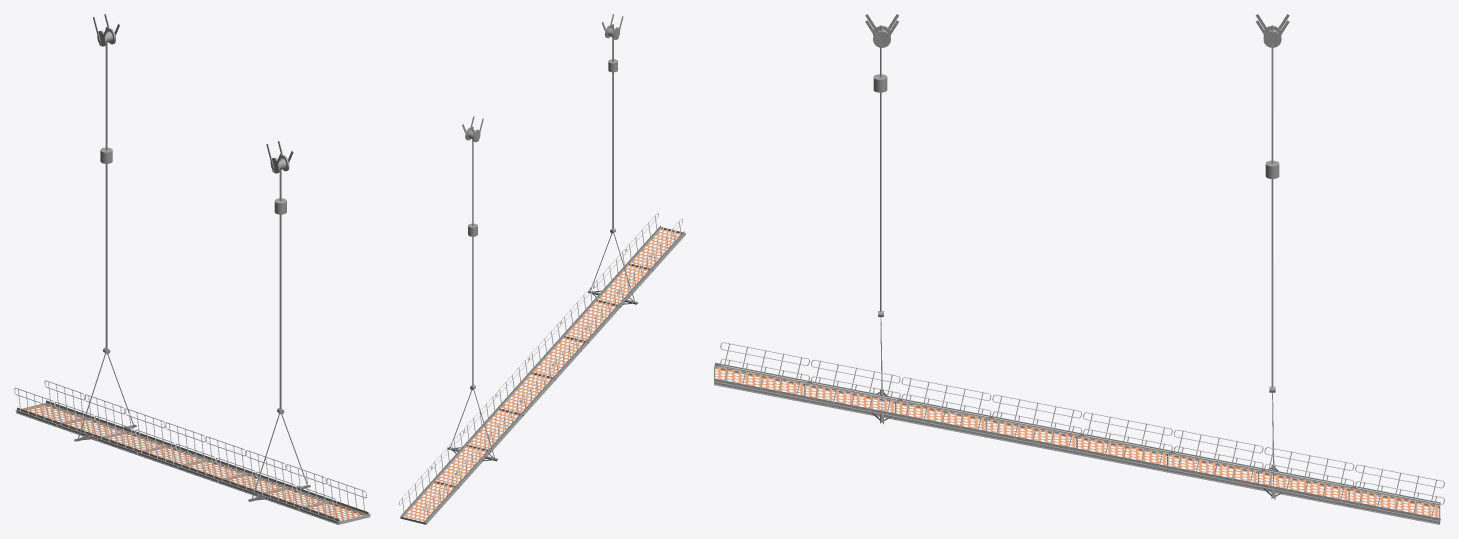
Rendered from FallingCatwalk.fbx.
3 renders of one model, left to right at view 1: azimuth 30°, elevation 25°; view 2: azimuth 150°, elevation 25°; view 3: azimuth 270°, elevation 25°, orthographic. The views are drawn at different scales.
Visible parts, largest first — view 1: Floor3 (×8), pCube139 (×2); view 2: Floor3 (×8), pCube139 (×2); view 3: Floor3 (×8), pCube139.
Part boxes in pixels (left/top/right/bottom): Floor3 (×8): left=23, top=403, right=364, bottom=520; pCube139 (×2): left=105, top=27, right=281, bottom=408; Floor3 (×8): left=403, top=228, right=680, bottom=521; pCube139 (×2): left=472, top=24, right=613, bottom=385; Floor3 (×8): left=715, top=367, right=1439, bottom=517; pCube139: left=1271, top=25, right=1273, bottom=387.
Bounding box in the file's own units: 378 × 2634 × 3497.
4 materials, 3 textured.
